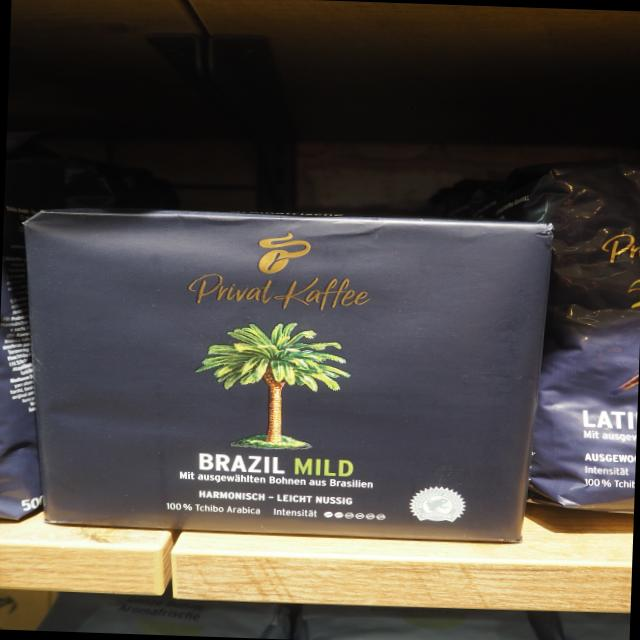BM Gemahlen: (20, 203, 563, 550)
